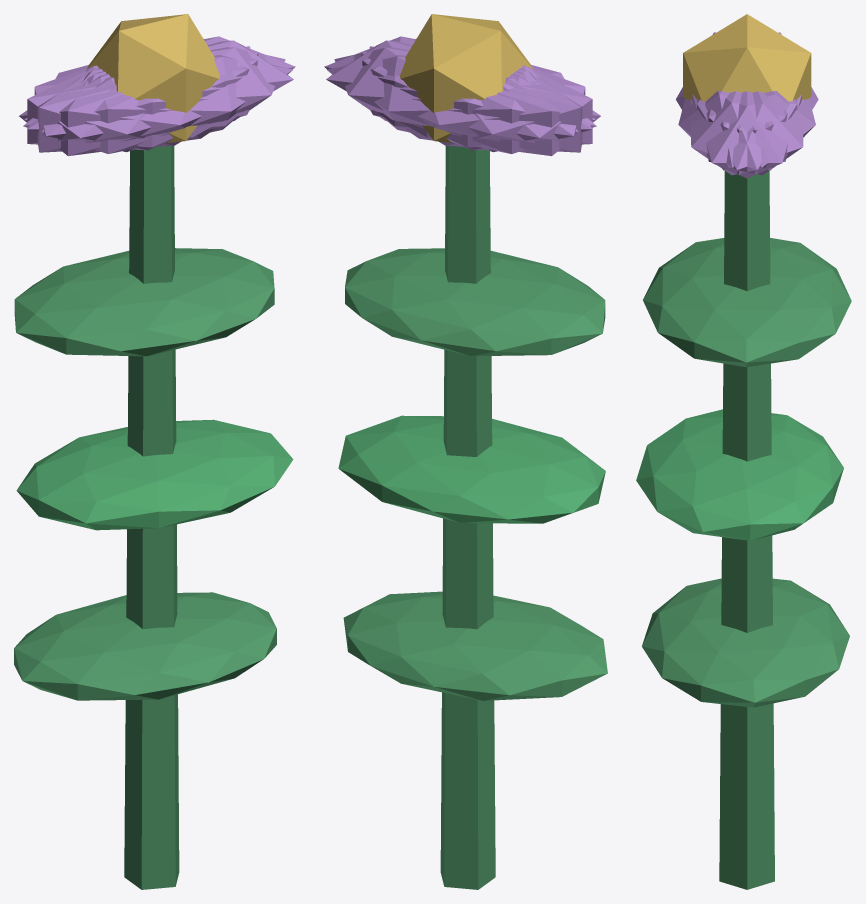
Rendered from leucanthemum-maximum.glb.
The picture shows the model from 3 angles, left to right: view 1: azimuth 30°, elevation 25°; view 2: azimuth 150°, elevation 25°; view 3: azimuth 270°, elevation 25°; orthographic projection.
Parts seen in each view (by area): view 1: stem, leaf1, leaf2, leaf0, center, petal1, petal6, petal2, petal5, petal7, petal0, petal4 (+2 smaller); view 2: stem, leaf2, leaf0, leaf1, center, petal8, petal3, petal7, petal4, petal2, petal0, petal5 (+2 smaller); view 3: stem, leaf2, leaf1, leaf0, center, petal0, petal4, petal5, petal8, petal1.
Part boxes in pixels (<box>): stem: <box>124,146,179,889</box>; leaf1: <box>16,419,293,530</box>; leaf2: <box>14,248,274,356</box>; leaf0: <box>14,592,276,700</box>; center: <box>87,14,219,143</box>; petal1: <box>23,55,292,153</box>; petal6: <box>19,67,214,156</box>; petal2: <box>37,46,250,152</box>; petal5: <box>41,47,285,147</box>; petal7: <box>27,52,258,150</box>; petal0: <box>86,40,293,137</box>; petal4: <box>24,36,295,129</box>; stem: <box>440,146,495,889</box>; leaf2: <box>345,248,605,356</box>; leaf0: <box>343,591,607,700</box>; leaf1: <box>338,415,605,523</box>; center: <box>400,14,532,143</box>; petal8: <box>327,55,596,153</box>; petal3: <box>405,67,600,156</box>; petal7: <box>369,46,582,152</box>; petal4: <box>334,47,578,147</box>; petal2: <box>361,52,592,150</box>; petal0: <box>326,40,533,137</box>; petal5: <box>324,36,595,129</box>; stem: <box>719,171,774,889</box>; leaf2: <box>643,238,851,367</box>; leaf1: <box>636,409,843,540</box>; leaf0: <box>642,578,849,707</box>; center: <box>683,14,811,101</box>; petal0: <box>692,91,801,178</box>; petal4: <box>697,91,803,175</box>; petal5: <box>690,91,797,175</box>; petal8: <box>706,91,815,167</box>; petal1: <box>678,91,787,167</box>.
Bounding box in the file's own units: 0.1498 × 0.4469 × 0.1032.
